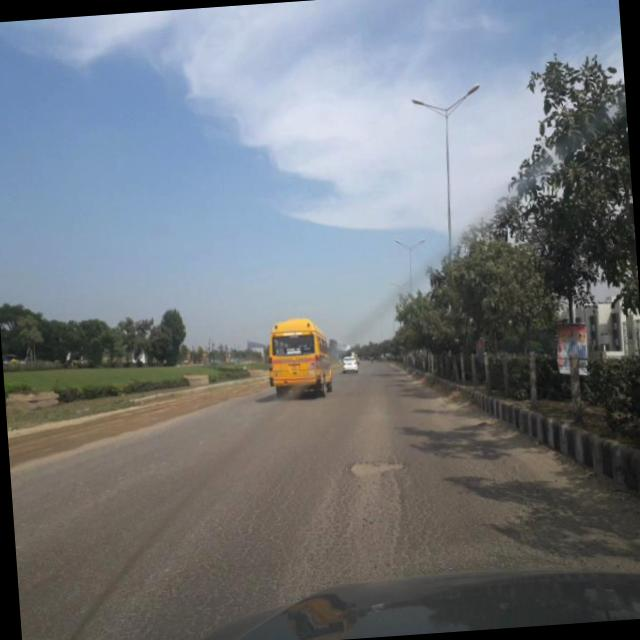crack: (8, 416, 536, 602)
pothole: (344, 452, 409, 480)
